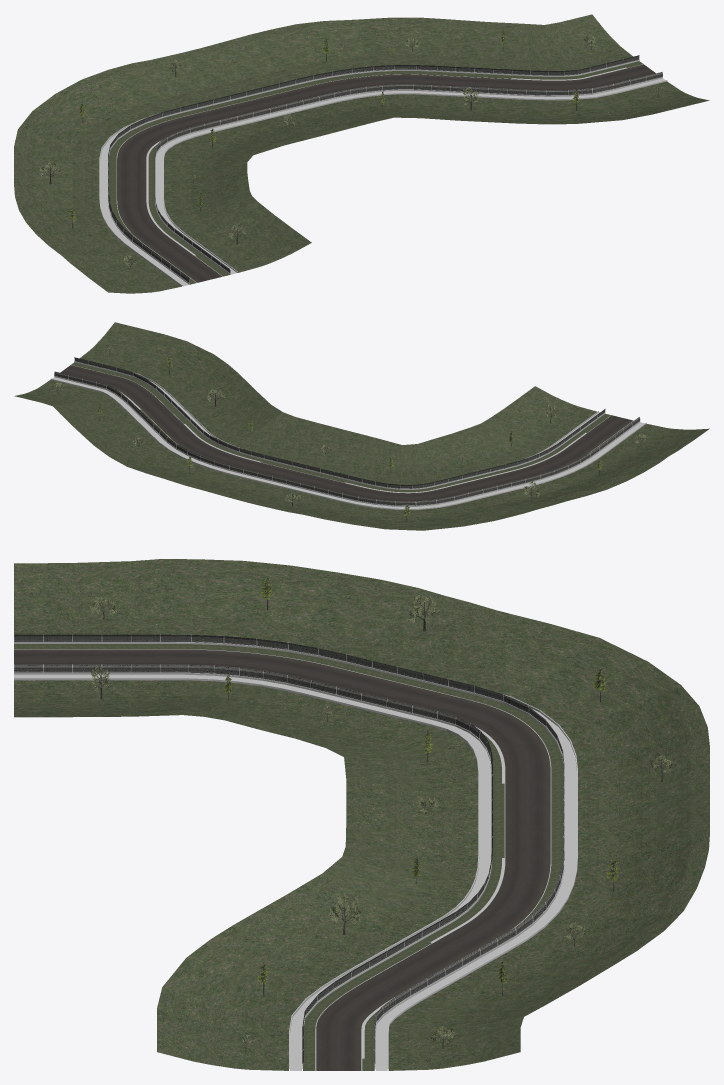
3 renders of one model, top to bottom at view 1: azimuth 30°, elevation 25°; view 2: azimuth 150°, elevation 25°; view 3: azimuth 270°, elevation 25°, orthographic. The views are drawn at different scales.
Parts seen in each view (by area): view 1: Grass_Grass.006, Road_Road.006, Track_Track.001, Wirefence_Wirefence.006, Trees_Trees.004; view 2: Grass_Grass.006, Road_Road.006, Track_Track.001, Wirefence_Wirefence.006, Trees_Trees.004; view 3: Grass_Grass.006, Road_Road.006, Track_Track.001, Wirefence_Wirefence.006, Trees_Trees.004.
Part boxes in pixels (left/top/right/bottom): Grass_Grass.006: left=14, top=14, right=709, bottom=293; Road_Road.006: left=117, top=64, right=655, bottom=282; Track_Track.001: left=99, top=59, right=667, bottom=286; Wirefence_Wirefence.006: left=108, top=55, right=662, bottom=282; Trees_Trees.004: left=39, top=29, right=662, bottom=269; Grass_Grass.006: left=14, top=322, right=709, bottom=530; Road_Road.006: left=60, top=365, right=632, bottom=501; Track_Track.001: left=50, top=361, right=646, bottom=509; Wirefence_Wirefence.006: left=54, top=357, right=639, bottom=505; Trees_Trees.004: left=50, top=345, right=647, bottom=521; Grass_Grass.006: left=14, top=559, right=709, bottom=1070; Road_Road.006: left=14, top=649, right=550, bottom=1070; Track_Track.001: left=14, top=634, right=577, bottom=1070; Wirefence_Wirefence.006: left=14, top=634, right=564, bottom=1063; Trees_Trees.004: left=89, top=577, right=675, bottom=1051.
Size of what is drawn, in the model's own units: 2670 by 121 by 1607.
